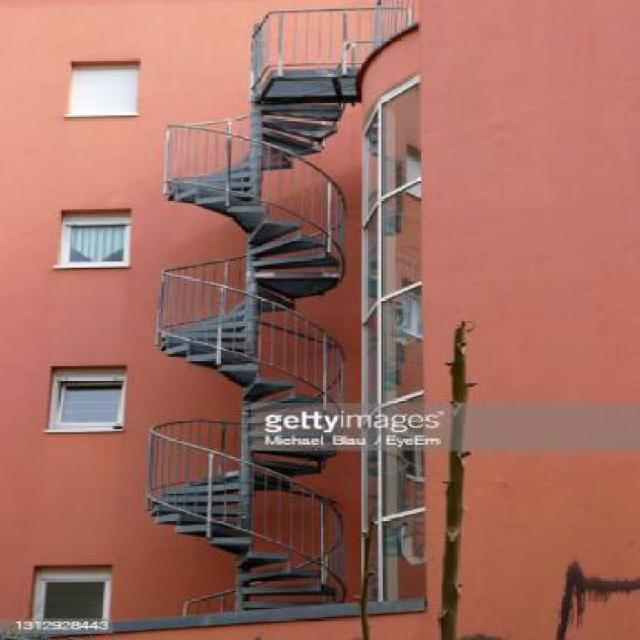stair: (139, 15, 403, 633)
